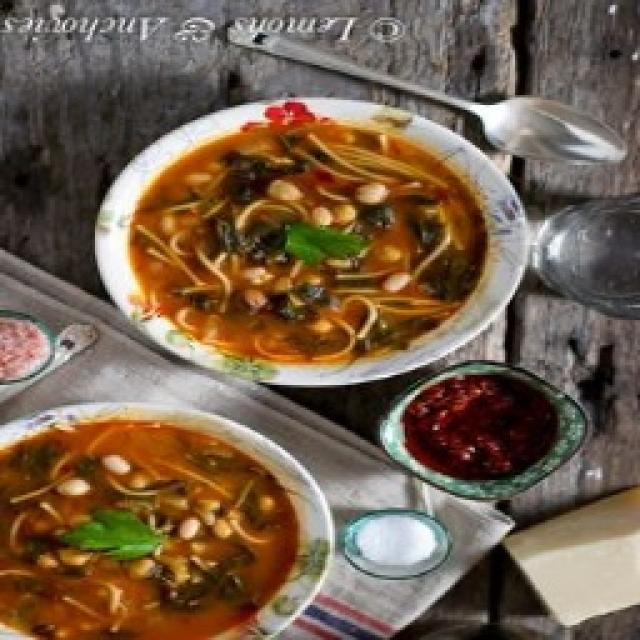Harissa: (405, 375, 559, 481)
